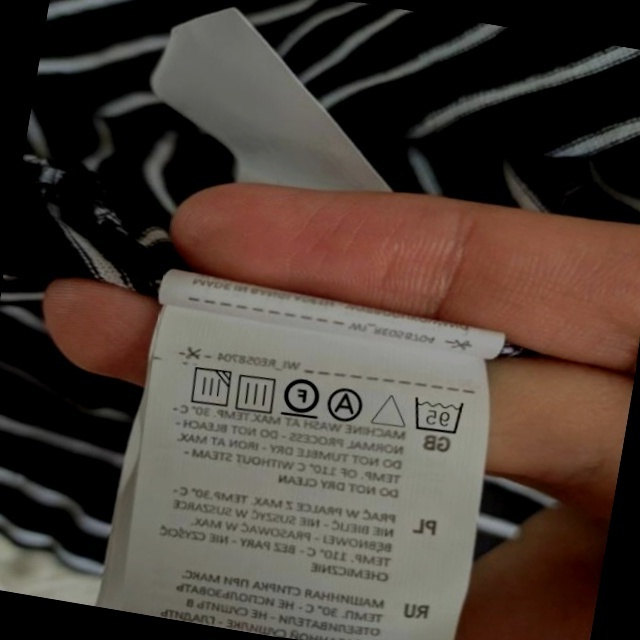95C: (407, 391, 468, 439)
bleach: (369, 386, 411, 433)
drip_dry: (231, 368, 281, 417)
drip_dry_in_shade: (183, 361, 234, 412)
dry_clean: (324, 383, 368, 426)
dry_clean_petrol_only: (278, 371, 324, 422)
